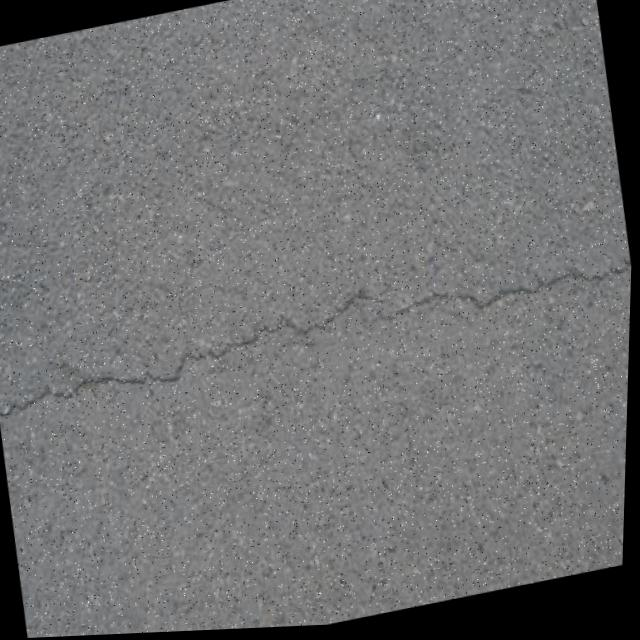Crack: (0, 231, 634, 438)
